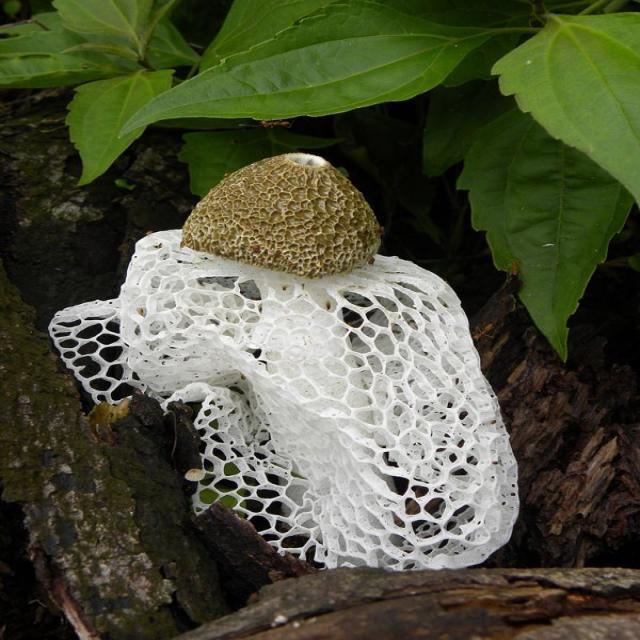Dictyophora indusiate: (48, 154, 522, 572)
